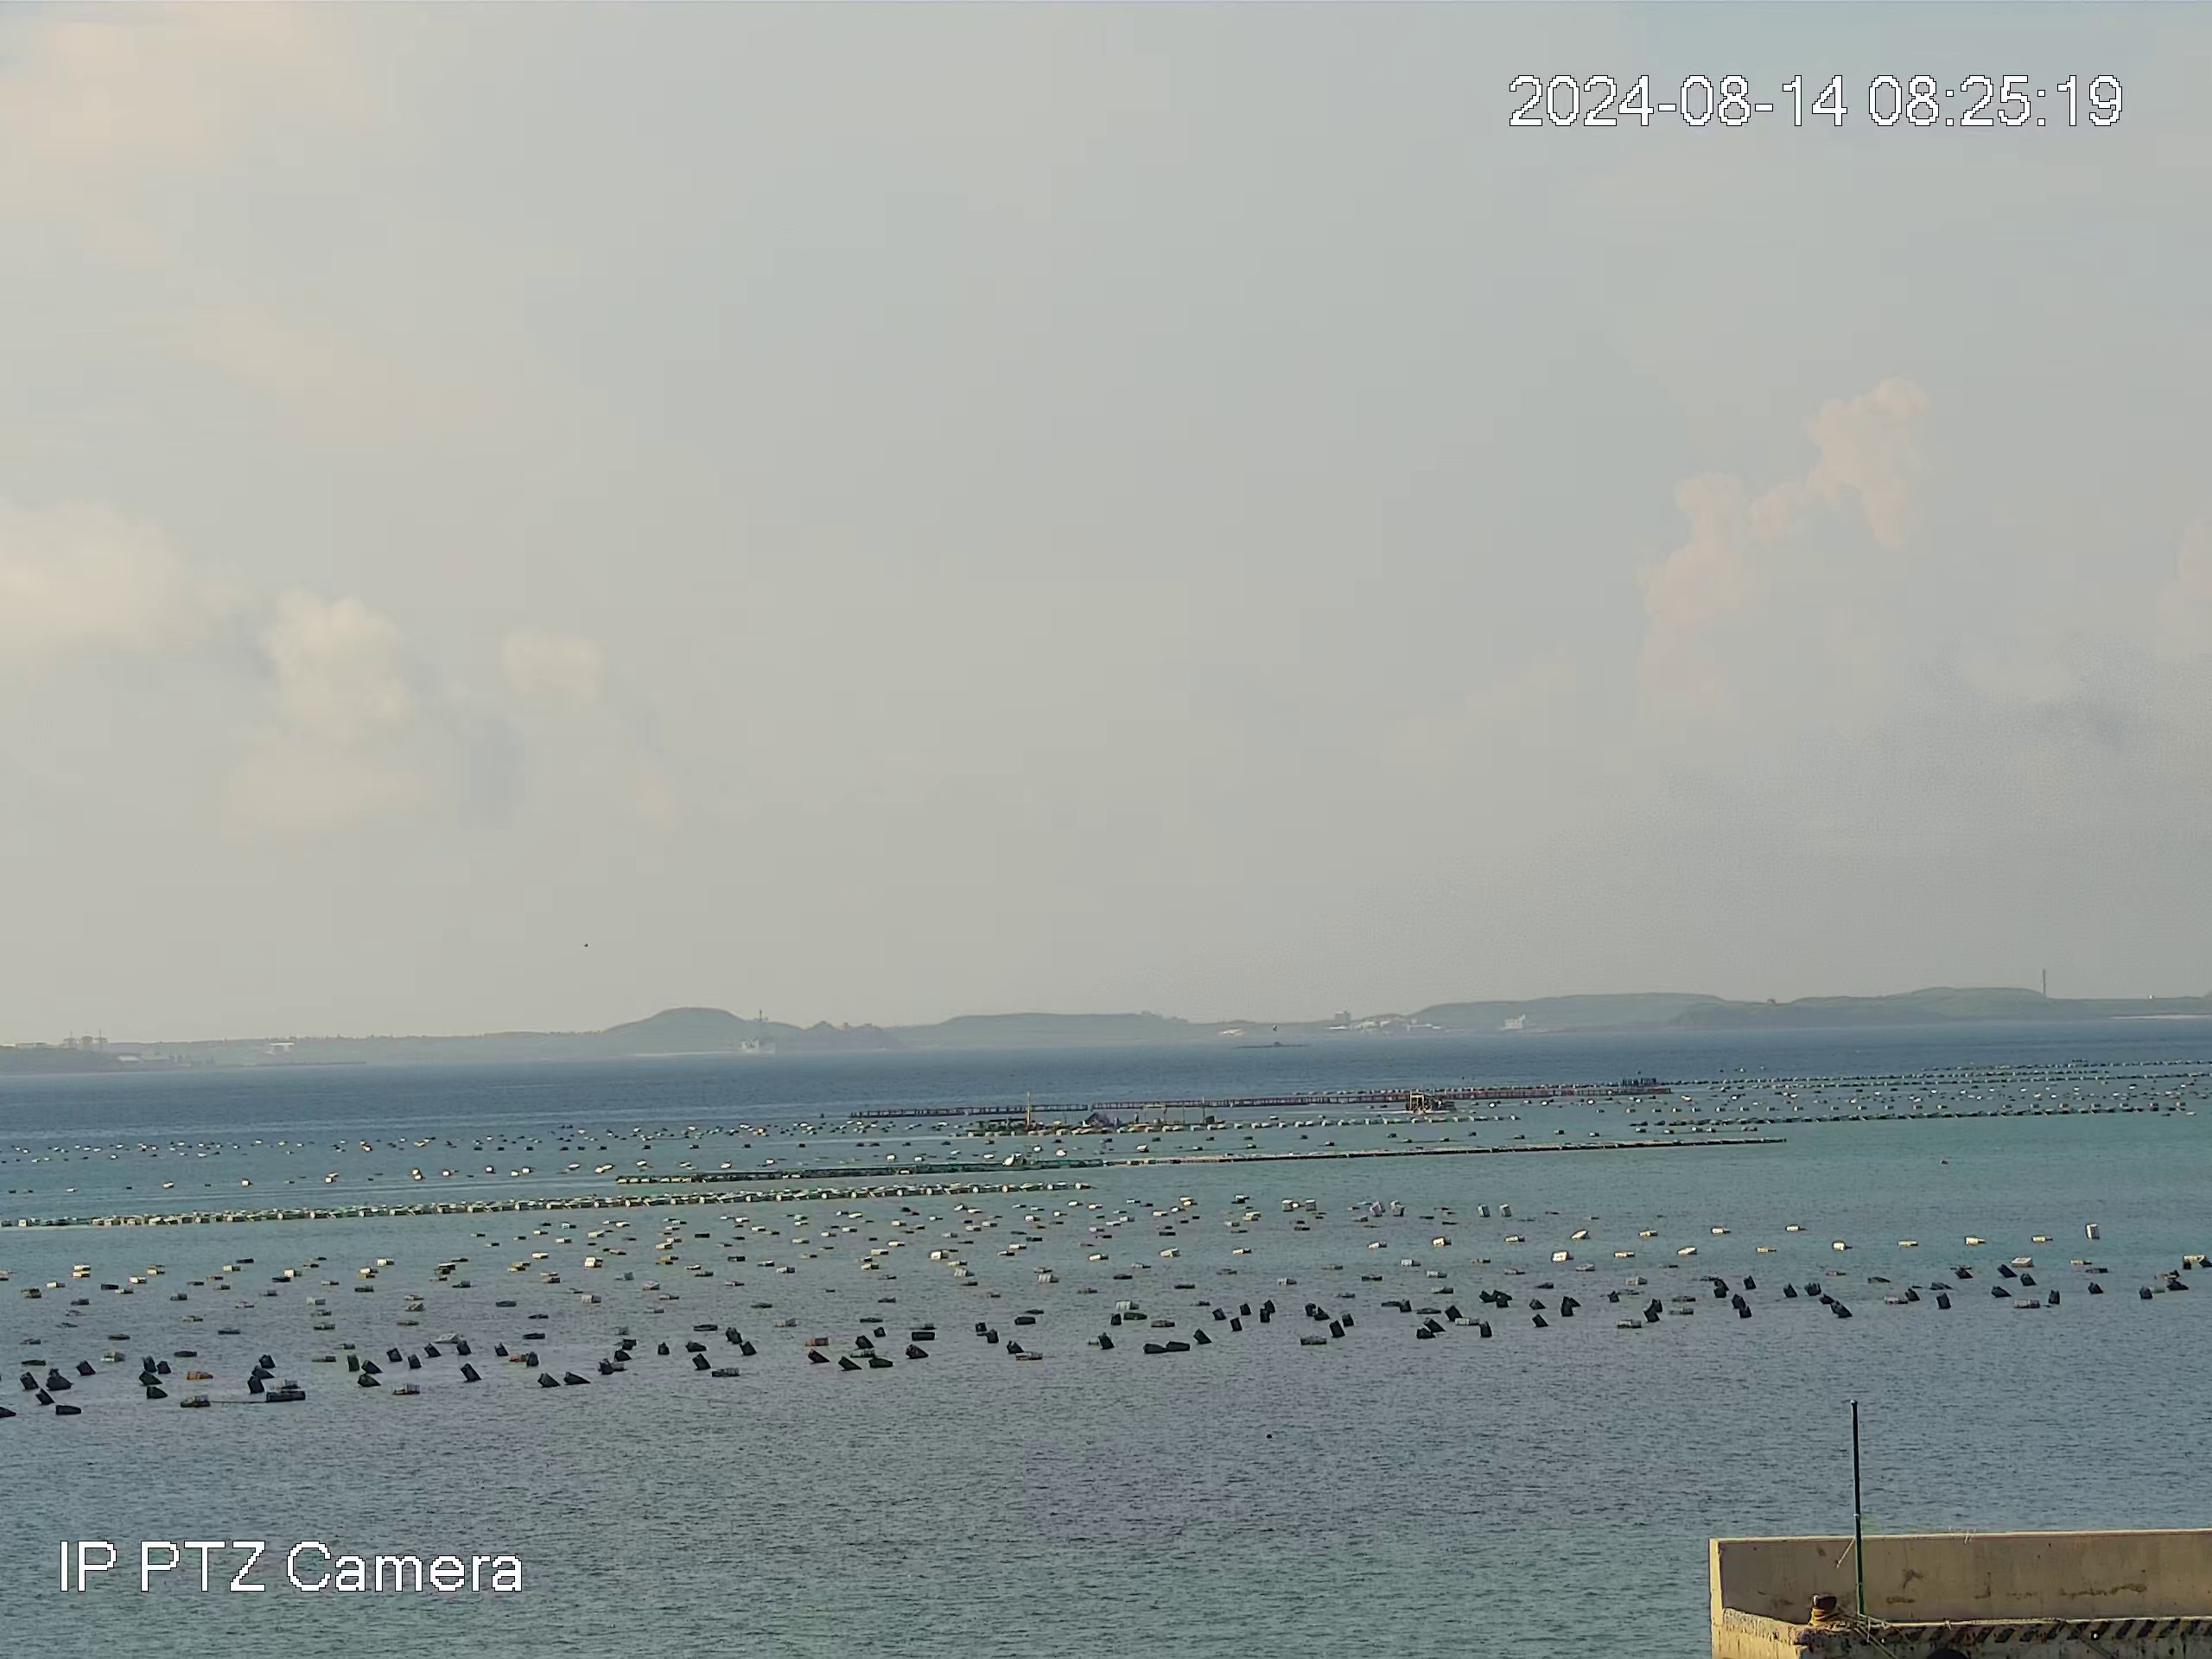boat: (1402, 1086, 1465, 1119)
